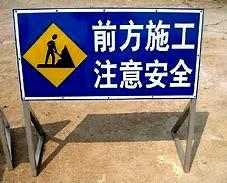sign: (13, 9, 199, 99)
